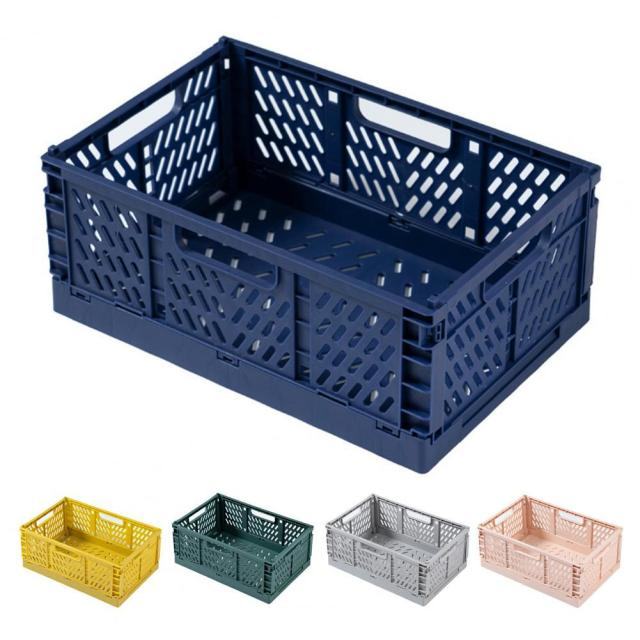basket: (6, 487, 170, 616), (159, 484, 322, 613)
